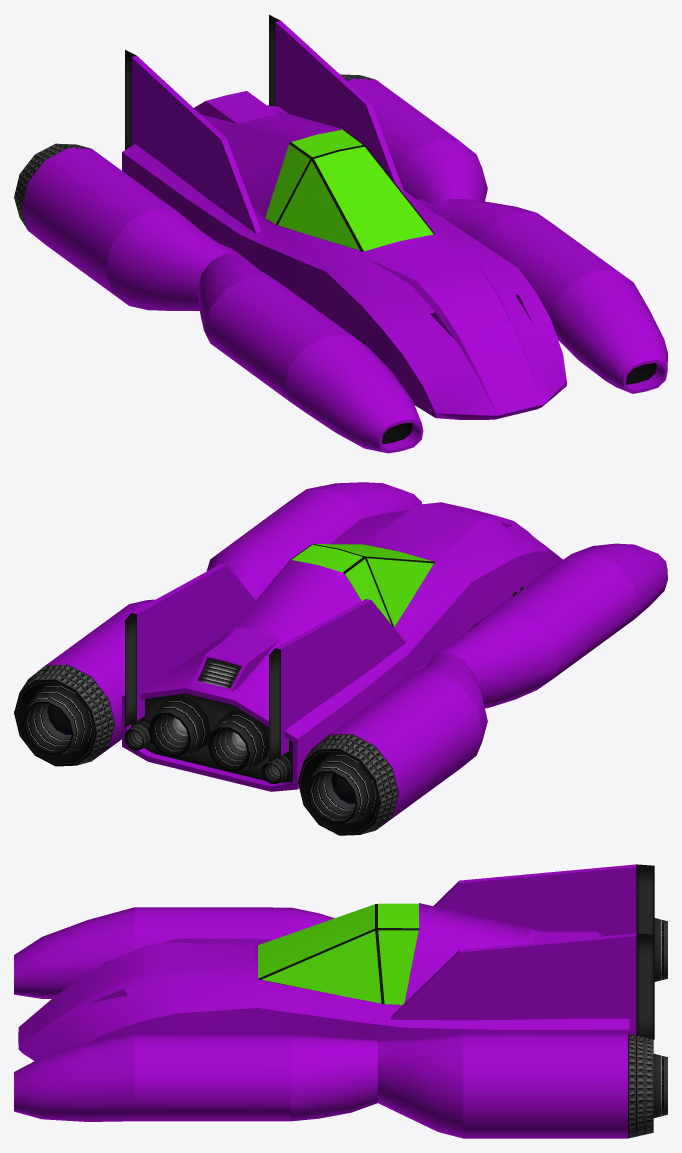
Rendered from Hot_Violet.fbx.
The picture shows the model from 3 angles, top to bottom: view 1: azimuth 30°, elevation 25°; view 2: azimuth 150°, elevation 25°; view 3: azimuth 270°, elevation 25°; orthographic projection.
Parts seen in each view (by area): view 1: HotViolet; view 2: HotViolet; view 3: HotViolet.
Boxes of the visible parts, x1,y1,x2,y2 form: HotViolet: (14,14,667,453); HotViolet: (14,482,667,835); HotViolet: (14,864,667,1138).
Bounding box in the file's own units: 273 × 117 × 418.
